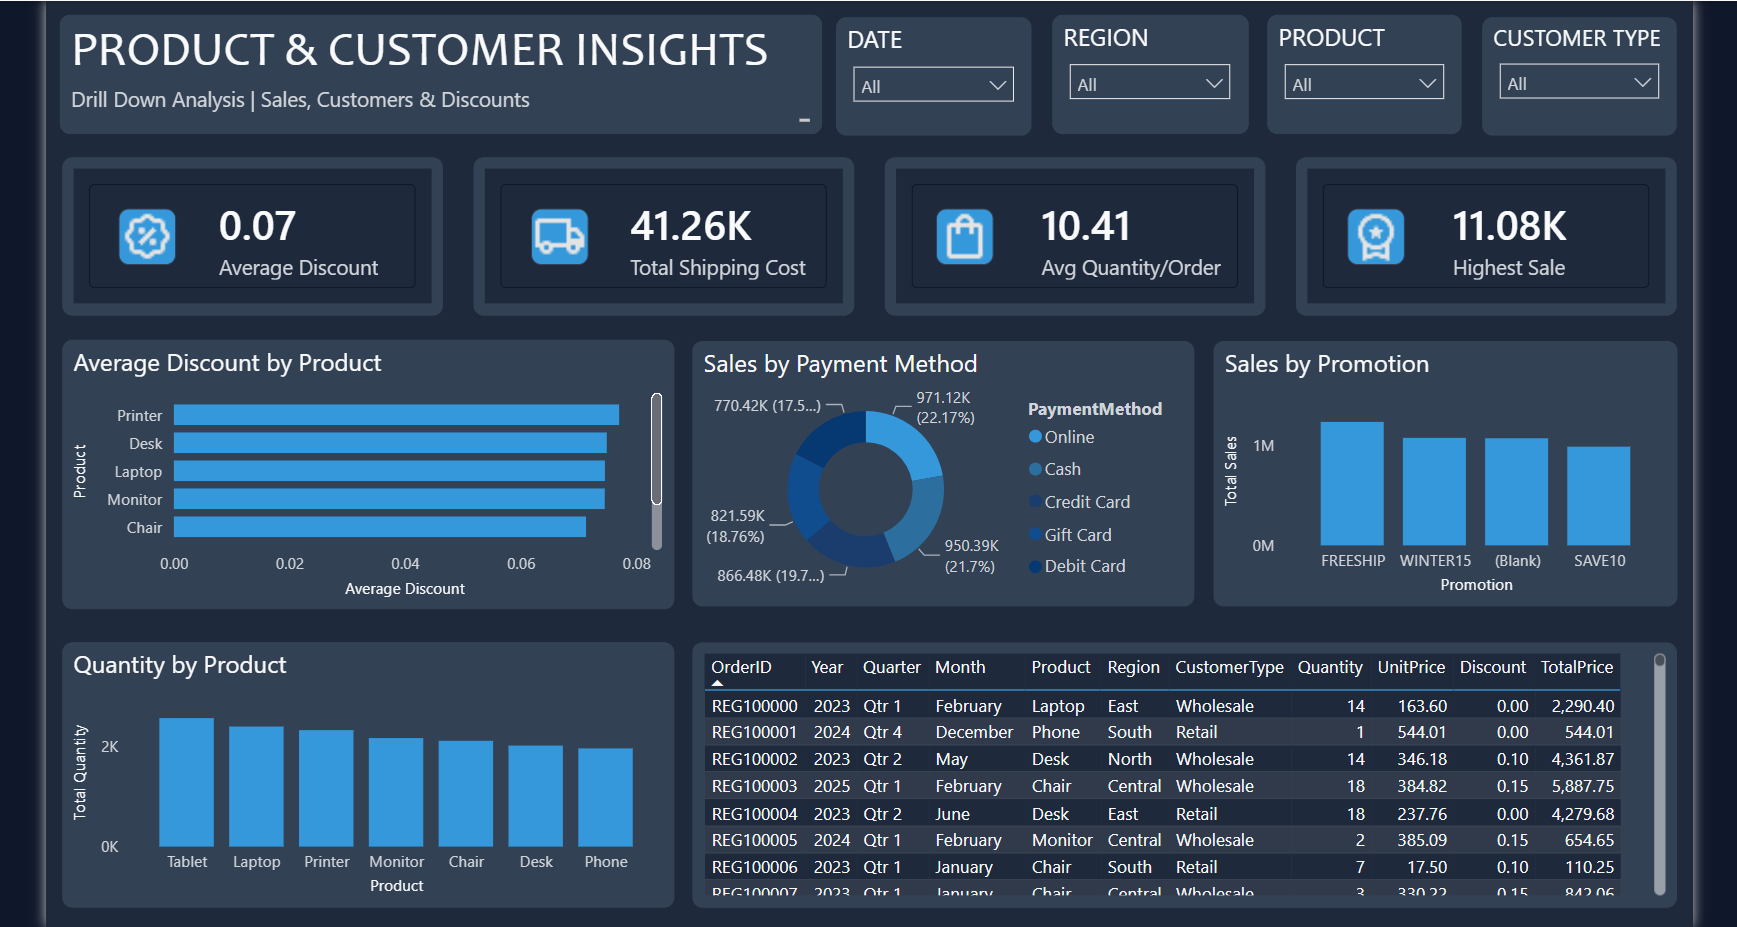

This screenshot's page, from the dashboard's own definition file:
{"tool":"powerbi","page":{"name":"Page 2","canvas":[1280,720],"ordinal":1},"visuals":[{"type":"textbox","title":"PRODUCT & CUSTOMER INSIGHTS","box":[11,11,592.7,92.7],"z":0},{"type":"cardVisual","fields":{"Data":["Sheet1.Average Discount"]},"box":[12.2,122,296.3,123.2],"z":1000,"group":"g1"},{"type":"clusteredColumnChart","title":"Quantity by Product","fields":{"Category":["Sheet1.Product"],"Y":["Sheet1.Total Quantity"]},"box":[12.2,498.8,475.6,206.1],"z":1000},{"type":"barChart","fields":{"Category":["Sheet1.Product"],"Y":["Sheet1.Average Discount"]},"box":[12.2,263.4,475.6,209.8],"z":2000},{"type":"clusteredColumnChart","title":"Sales by Promotion","fields":{"Category":["Sheet1.Promotion"],"Y":["Sheet1.Total Sales"]},"box":[907.3,264.6,361,206.1],"z":3000},{"type":"tableEx","fields":{"Values":["Sheet1.OrderID","Sheet1.OrderDate.Variation.Date Hierarchy.Year","Sheet1.OrderDate.Variation.Date Hierarchy.Quarter","Sheet1.OrderDate.Variation.Date Hierarchy.Month","Sheet1.Product","Sheet1.Region","Sheet1.CustomerType","Sheet1.Quantity","Sheet1.UnitPrice","Sheet1.Discount","Sheet1.TotalPrice"]},"box":[502.4,498.8,765.9,206.1],"z":4000},{"type":"donutChart","title":"Sales by Payment Method","fields":{"Category":["Sheet1.PaymentMethod"],"Y":["Sheet1.Total Sales"]},"box":[502.4,264.6,390.2,206.1],"z":5000},{"type":"slicer","title":"DATE","fields":{"Values":["Sheet1.OrderDate"]},"box":[614.4,12.2,152.2,92.2],"z":6000},{"type":"slicer","title":"CUSTOMER TYPE","fields":{"Values":["Sheet1.CustomerType"]},"box":[1116.7,12.2,151.1,92.2],"z":7000},{"type":"cardVisual","fields":{"Data":["Sheet1.Total Shipping Cost"]},"box":[332.1,122,296.3,123.2],"z":7000,"group":"g2"},{"type":"slicer","title":"REGION","fields":{"Values":["Sheet1.Region"]},"box":[782.1,11,152.4,92.7],"z":8000},{"type":"cardVisual","fields":{"Data":["Sheet1.Average Quantity per Order"]},"box":[652,122,296.3,123.2],"z":8000,"group":"g3"},{"type":"slicer","title":"PRODUCT","fields":{"Values":["Sheet1.Product"]},"box":[950,11,151.2,92.7],"z":9000},{"type":"cardVisual","fields":{"Data":["Sheet1.Highest Sale"]},"box":[972,122,296.3,123.2],"z":9000,"group":"g4"},{"type":"group","id":"g1","title":"Group 1","box":[12.2,122,296.3,123.2],"z":10000},{"type":"group","id":"g2","title":"Group 2","box":[332.1,122,296.3,123.2],"z":11000},{"type":"group","id":"g3","title":"Group 3","box":[652,122,296.3,123.2],"z":12000},{"type":"group","id":"g4","title":"Group 4","box":[972,122,296.3,123.2],"z":13000},{"type":"image","box":[56.1,162.2,45.1,43.9],"z":14000,"group":"g1"},{"type":"image","box":[376.8,162.2,45.1,43.9],"z":15000,"group":"g2"},{"type":"image","box":[691.4,162.2,45.1,43.9],"z":15001,"group":"g3"},{"type":"image","box":[1012.2,162.2,45.1,43.9],"z":15002,"group":"g4"}]}

Visuals, with their boxes on the page's 1280x720 design canvas (x1, y1, x2, y2). These are canvas units, not pixel positions in the 1737x927 screenshot, which may show the page scaled, cropped or inside an application window:
"PRODUCT & CUSTOMER INSIGHTS" textbox: detection(11, 11, 604, 104)
cardVisual - Sheet1.Average Discount: detection(12, 122, 308, 245)
"Quantity by Product" clusteredColumnChart: detection(12, 499, 488, 705)
barChart - Sheet1.Product x Sheet1.Average Discount: detection(12, 263, 488, 473)
"Sales by Promotion" clusteredColumnChart: detection(907, 265, 1268, 471)
tableEx - Sheet1.OrderID x Sheet1.OrderDate.Variation.Date Hierarchy.Year: detection(502, 499, 1268, 705)
"Sales by Payment Method" donutChart: detection(502, 265, 893, 471)
"DATE" slicer: detection(614, 12, 767, 104)
"CUSTOMER TYPE" slicer: detection(1117, 12, 1268, 104)
cardVisual - Sheet1.Total Shipping Cost: detection(332, 122, 628, 245)
"REGION" slicer: detection(782, 11, 934, 104)
cardVisual - Sheet1.Average Quantity per Order: detection(652, 122, 948, 245)
"PRODUCT" slicer: detection(950, 11, 1101, 104)
cardVisual - Sheet1.Highest Sale: detection(972, 122, 1268, 245)
"Group 1" group: detection(12, 122, 308, 245)
"Group 2" group: detection(332, 122, 628, 245)
"Group 3" group: detection(652, 122, 948, 245)
"Group 4" group: detection(972, 122, 1268, 245)
image: detection(56, 162, 101, 206)
image: detection(377, 162, 422, 206)
image: detection(691, 162, 736, 206)
image: detection(1012, 162, 1057, 206)
